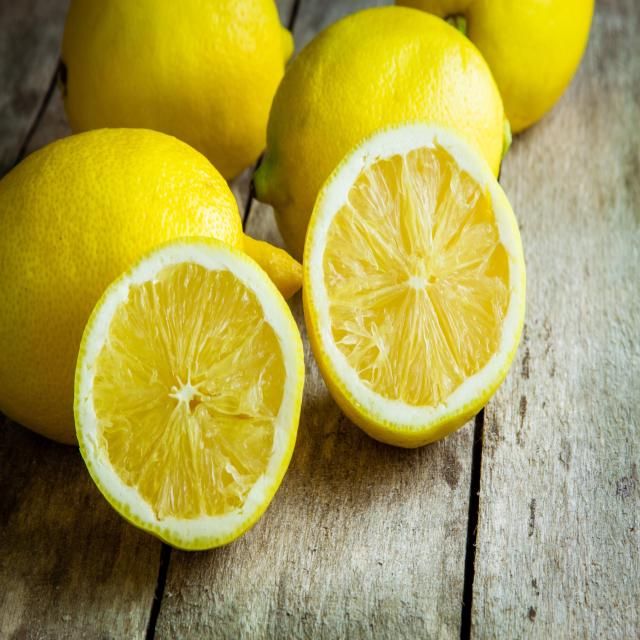lemon: (298, 114, 531, 453)
